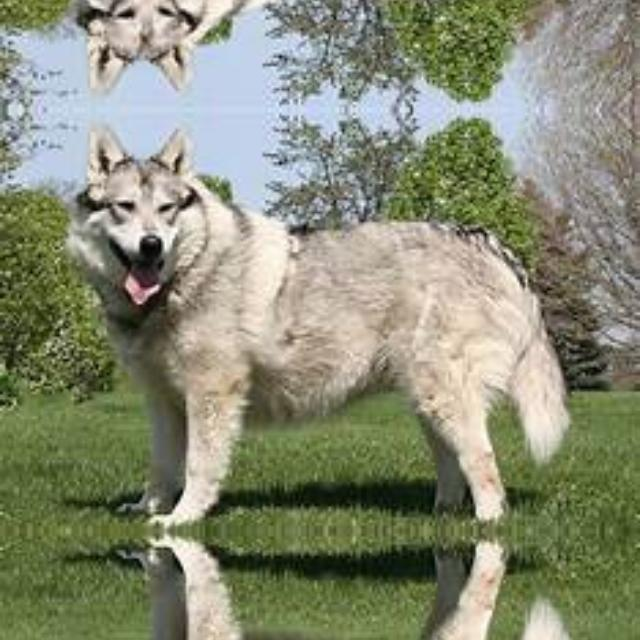dog: (60, 134, 596, 530), (60, 530, 596, 640), (60, 0, 596, 84)
